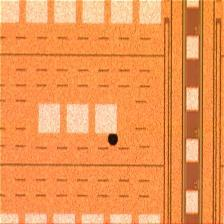PARTICLE: (104, 130, 124, 150)
